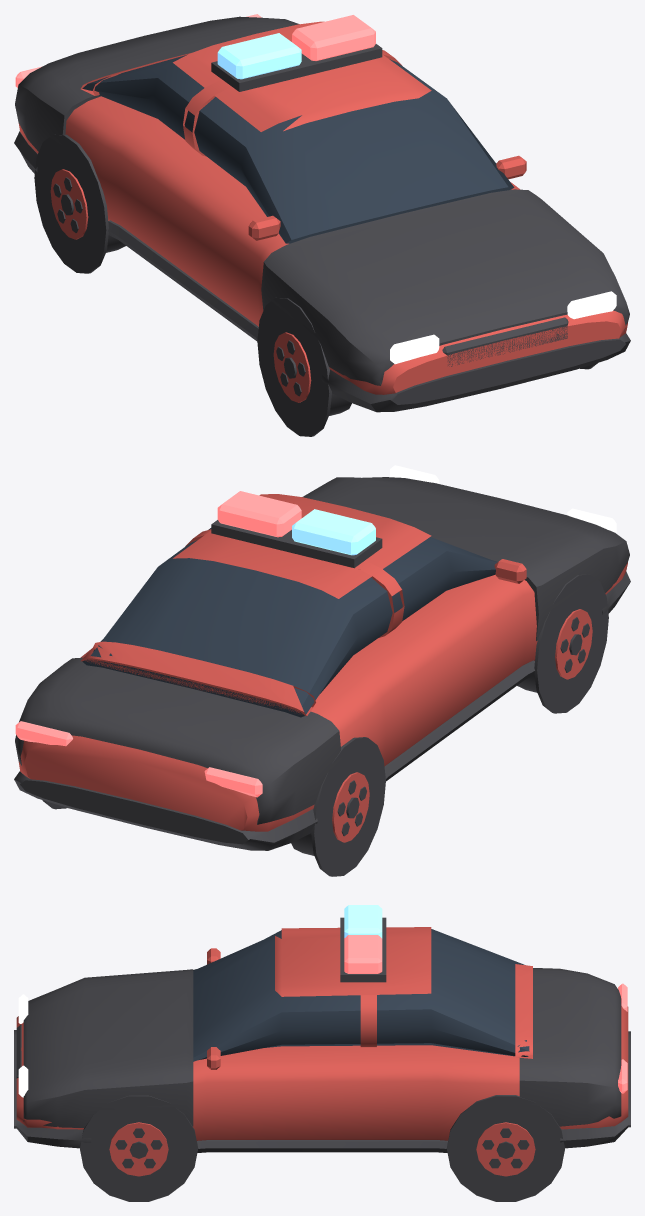
File: car_police.glb
The picture shows the model from 3 angles, top to bottom: view 1: azimuth 30°, elevation 25°; view 2: azimuth 150°, elevation 25°; view 3: azimuth 270°, elevation 25°; orthographic projection. The views are drawn at different scales.
Visible parts, largest first — view 1: blackF, cabin, body, roof, blackR, bumperF, arch.003, arch.002, sirenB, sirenR, skirts, wheel_FR (+7 smaller); view 2: body, cabin, blackR, blackF, roof, bumperR, pillarC, arch.003, arch.002, sirenB, sirenR, skirts (+7 smaller); view 3: body, cabin, blackF, blackR, roof, arch.001, arch, skirts, wheel_FL, wheel_RL, pillarC, sirenR (+5 smaller).
Part boxes in pixels (bbox=[...]): blackF: bbox=[261, 189, 629, 385]; cabin: bbox=[82, 54, 514, 243]; body: bbox=[18, 96, 627, 394]; roof: bbox=[173, 21, 431, 131]; blackR: bbox=[15, 16, 299, 151]; bumperF: bbox=[321, 333, 630, 412]; arch.003: bbox=[34, 134, 108, 273]; arch.002: bbox=[257, 297, 331, 436]; sirenB: bbox=[217, 33, 301, 79]; sirenR: bbox=[292, 15, 375, 60]; skirts: bbox=[108, 220, 258, 341]; wheel_FR: bbox=[273, 332, 351, 415]; body: bbox=[18, 562, 627, 831]; cabin: bbox=[82, 528, 497, 717]; blackR: bbox=[15, 657, 341, 824]; blackF: bbox=[302, 477, 629, 640]; roof: bbox=[173, 494, 431, 598]; bumperR: bbox=[14, 771, 317, 850]; pillarC: bbox=[81, 641, 315, 716]; arch.003: bbox=[311, 737, 385, 876]; arch.002: bbox=[534, 574, 608, 713]; sirenB: bbox=[292, 509, 375, 555]; sirenR: bbox=[217, 491, 301, 537]; skirts: bbox=[384, 660, 535, 781]; body: bbox=[16, 1006, 628, 1140]; cabin: bbox=[193, 929, 529, 1061]; blackF: bbox=[23, 969, 193, 1127]; blackR: bbox=[519, 968, 621, 1126]; roof: bbox=[275, 927, 431, 996]; arch.001: bbox=[446, 1095, 564, 1201]; arch: bbox=[80, 1095, 198, 1201]; skirts: bbox=[197, 1140, 447, 1152]; wheel_FL: bbox=[109, 1122, 168, 1176]; wheel_RL: bbox=[476, 1122, 535, 1176]; pillarC: bbox=[515, 964, 532, 1058]; sirenR: bbox=[344, 935, 382, 973].
Size of the model in its own units: 2.01 by 1.74 by 4.54.
